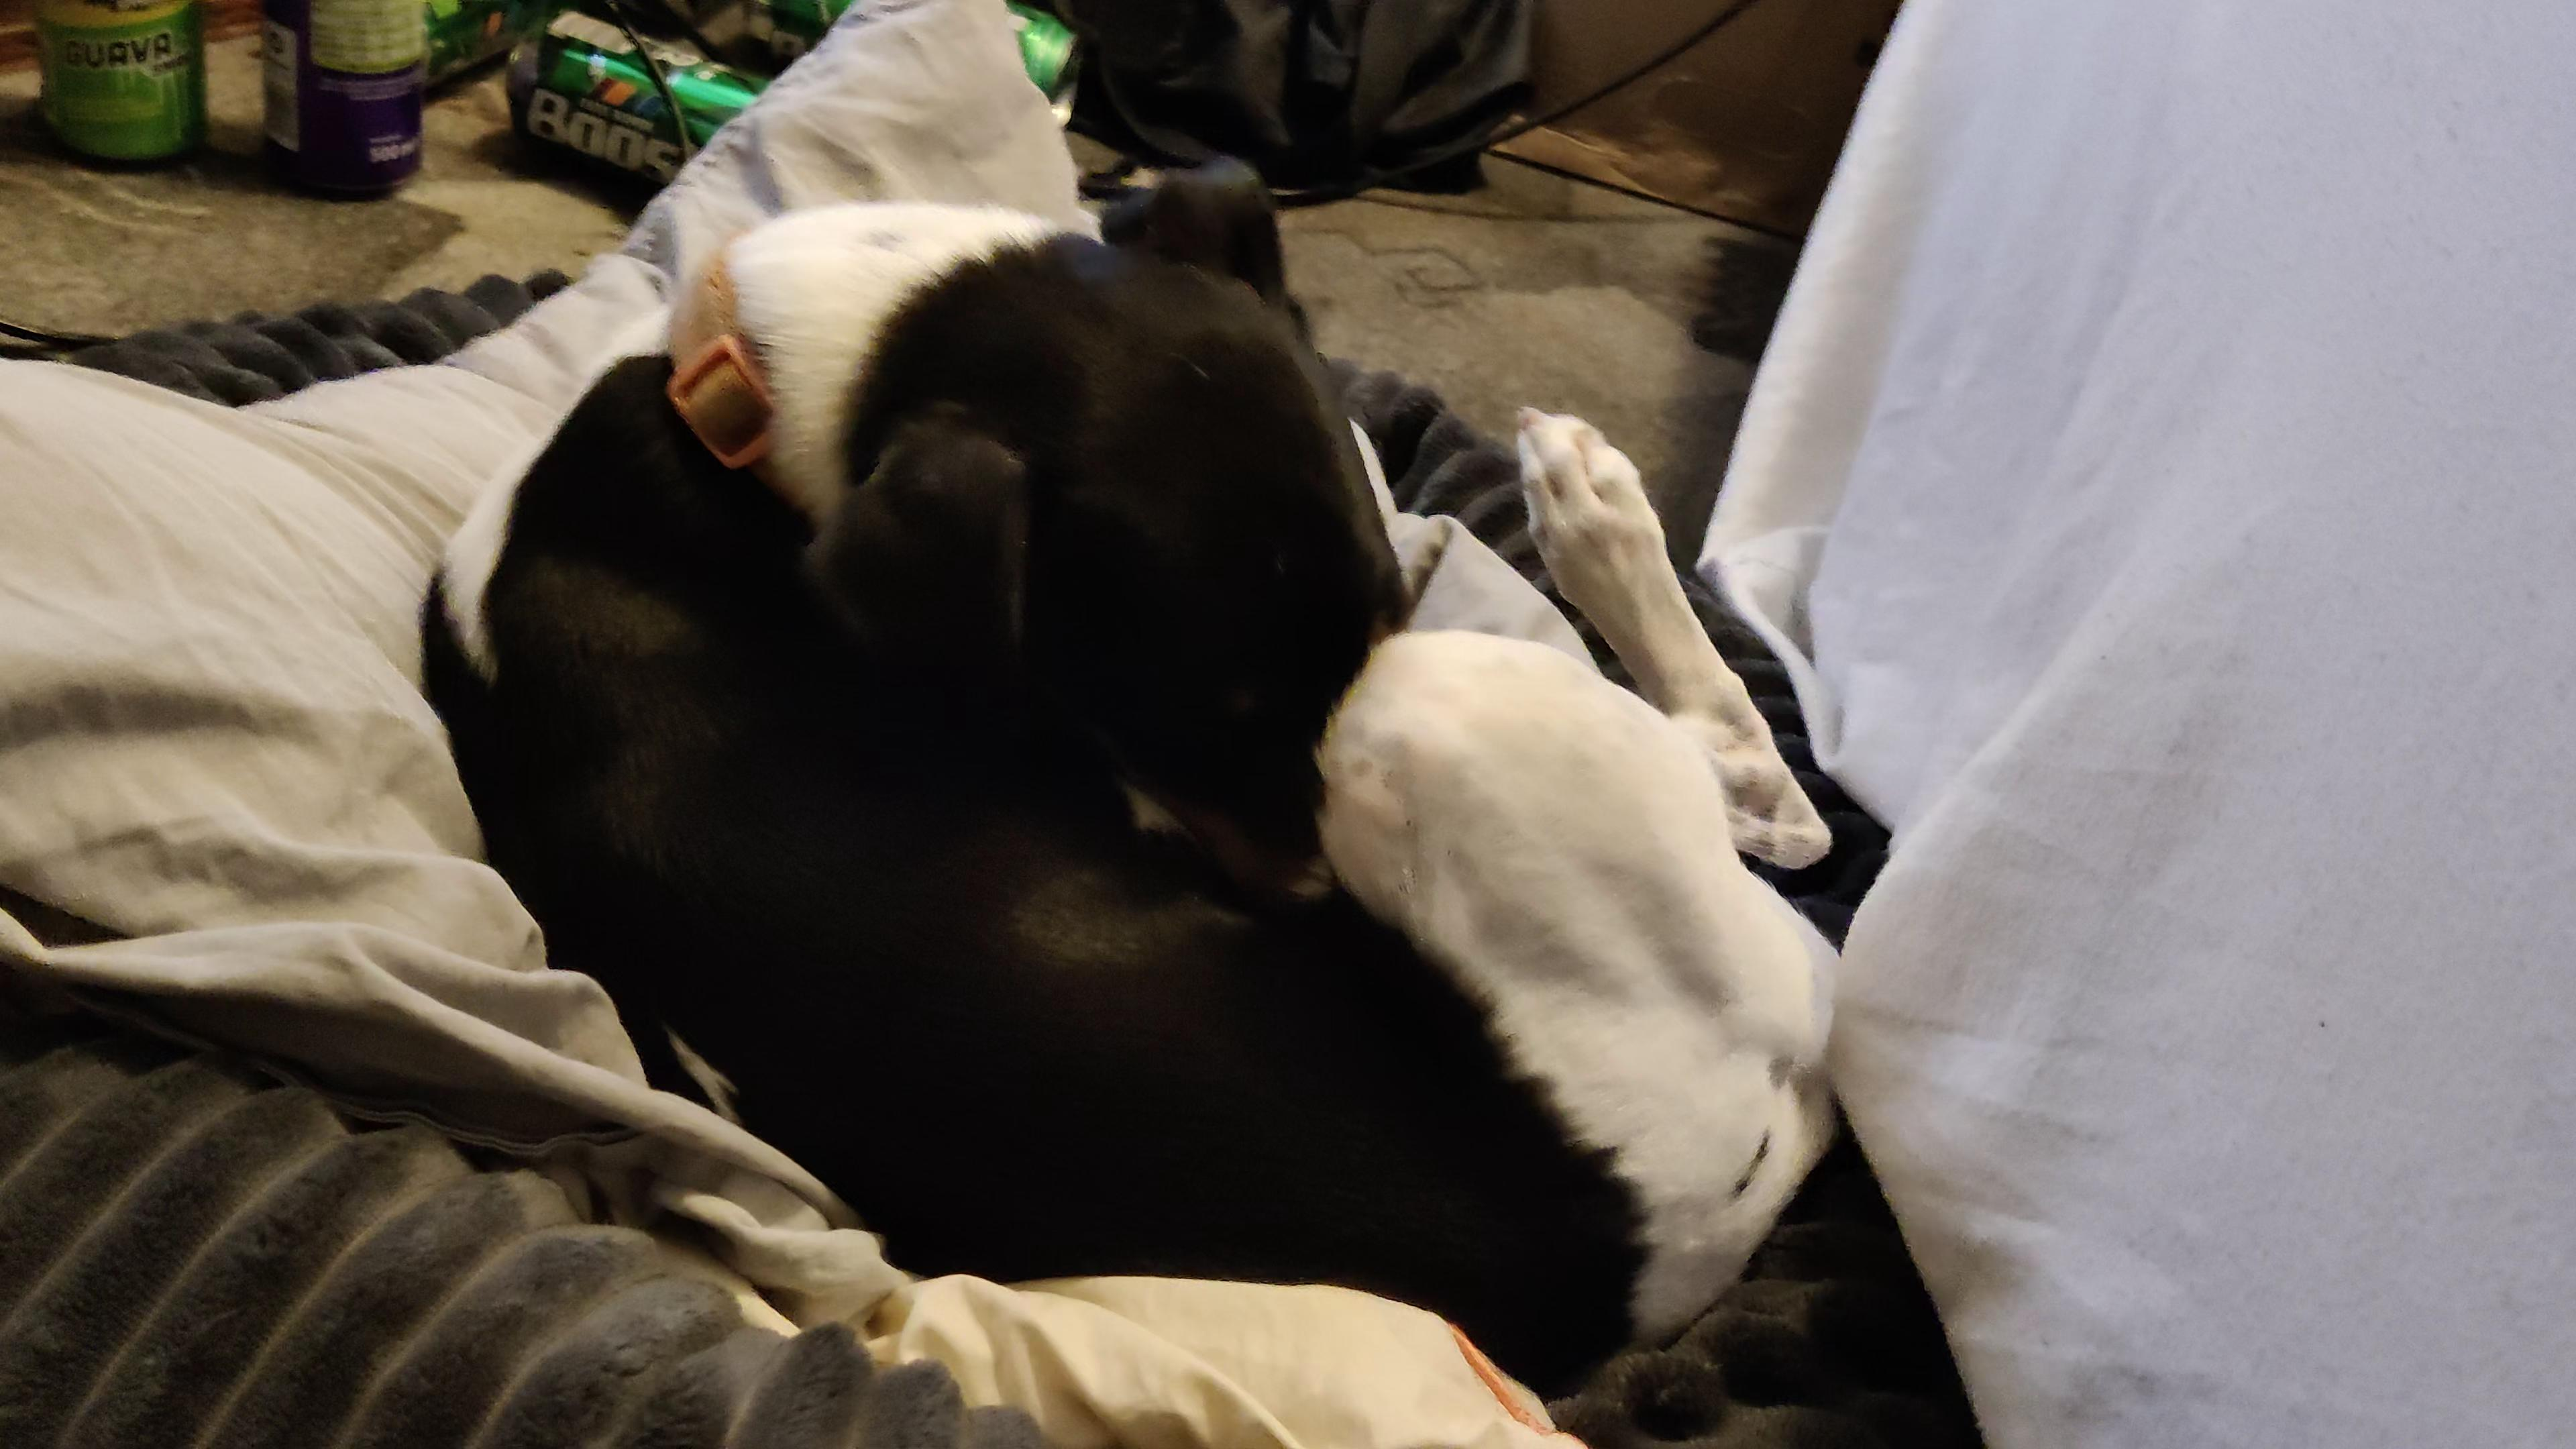Dog: (384, 119, 1905, 1421)
